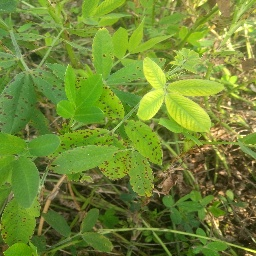GroundNut_Leaf: (1, 70, 33, 134), (167, 92, 212, 135), (60, 144, 120, 174), (1, 210, 36, 255), (125, 148, 156, 198), (10, 158, 38, 208), (76, 81, 103, 127), (82, 1, 129, 25), (34, 71, 75, 97), (42, 208, 72, 239), (94, 27, 112, 78), (142, 57, 168, 90), (27, 133, 59, 159), (137, 90, 164, 120), (125, 121, 156, 147), (128, 14, 146, 54), (170, 80, 223, 92), (175, 47, 199, 71), (82, 237, 115, 252), (190, 191, 206, 221), (80, 208, 99, 232), (114, 26, 127, 61), (1, 137, 22, 155), (58, 99, 75, 121), (161, 192, 177, 209), (195, 228, 208, 244)
